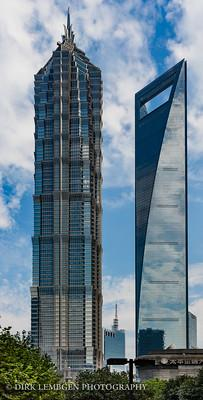building: (26, 37, 107, 379), (129, 56, 192, 374)
